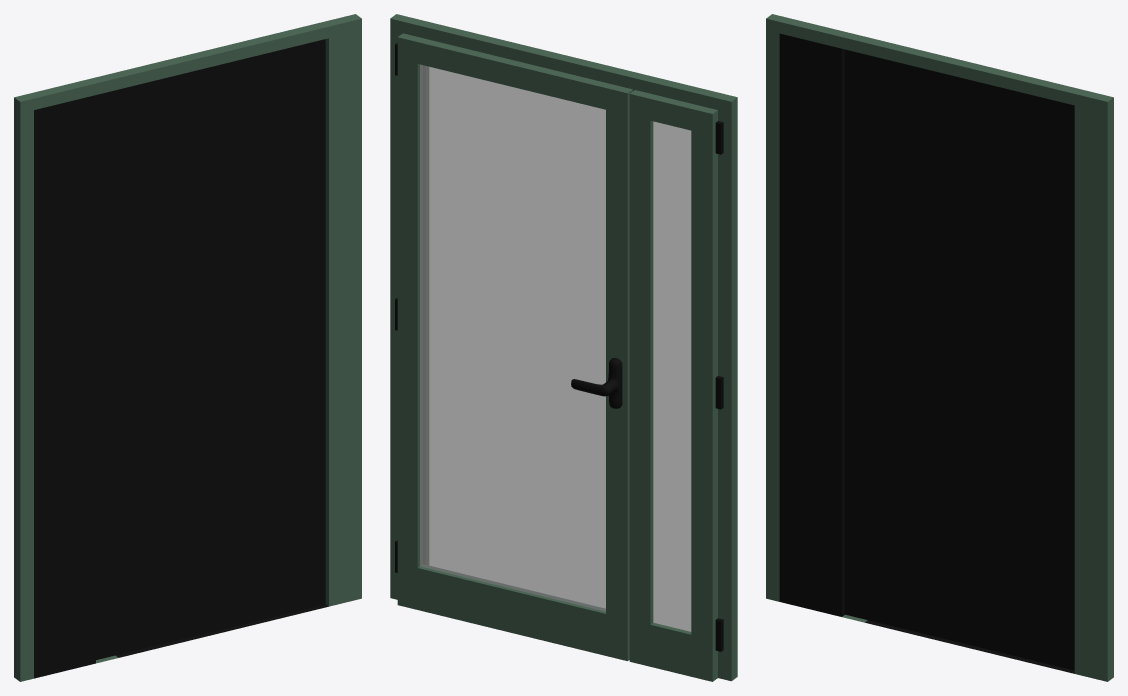
The model's file is Porta_M.fbx.
3 renders of one model, left to right at view 1: azimuth 30°, elevation 25°; view 2: azimuth 150°, elevation 25°; view 3: azimuth 330°, elevation 25°, orthographic.
Visible parts, largest first — view 1: Struttura.006; view 2: Porta.006, Struttura.006; view 3: Struttura.006.
Boxes of the visible parts, left/top/right/bottom form: Struttura.006: left=14, top=14, right=361, bottom=681; Porta.006: left=397, top=33, right=632, bottom=661; Struttura.006: left=390, top=14, right=737, bottom=681; Struttura.006: left=766, top=14, right=1113, bottom=681.
Size of the model in its own units: 266 by 432 by 33.77.
